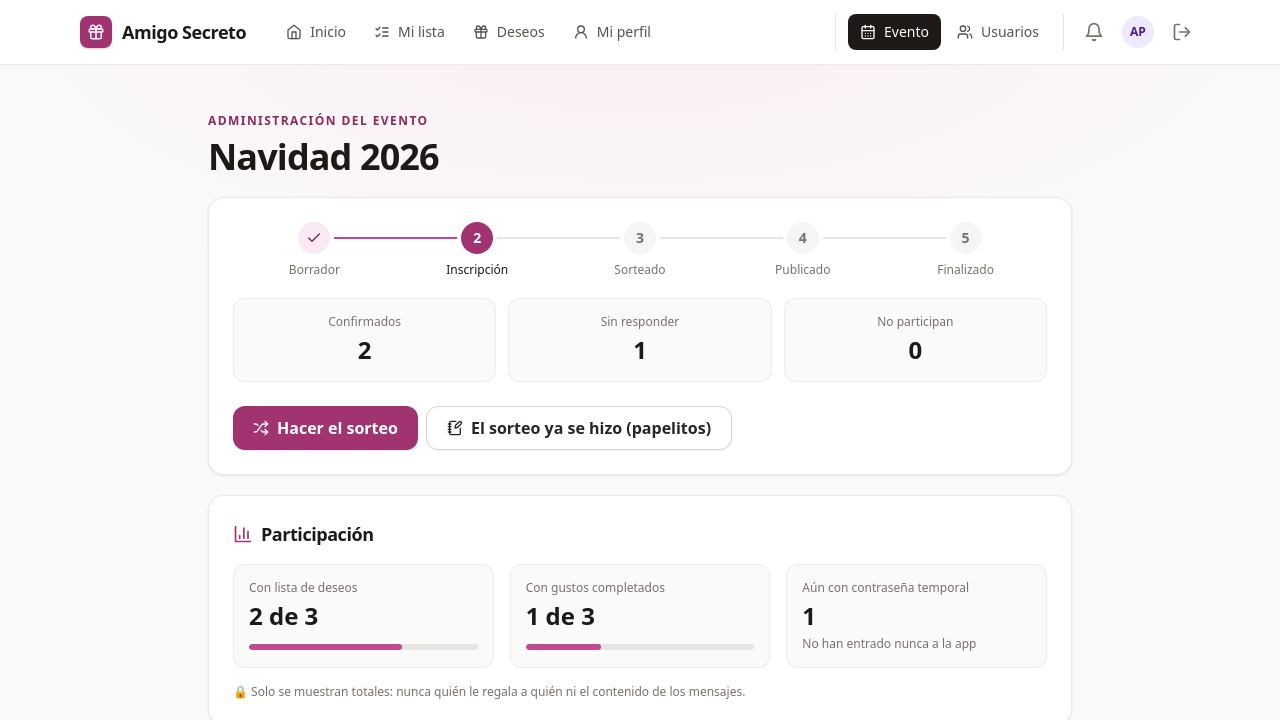
Test: AdminEventPage › en inscripción: estadísticas y aviso de quién queda fuera antes de sortear
Expected: the heading "Participación" is shown, [233, 522, 374, 546]
Expected: the text "2 de 3" is shown, [249, 599, 318, 632]
Click the button "Hacer el sorteo" at (325, 428), box [233, 406, 418, 450]
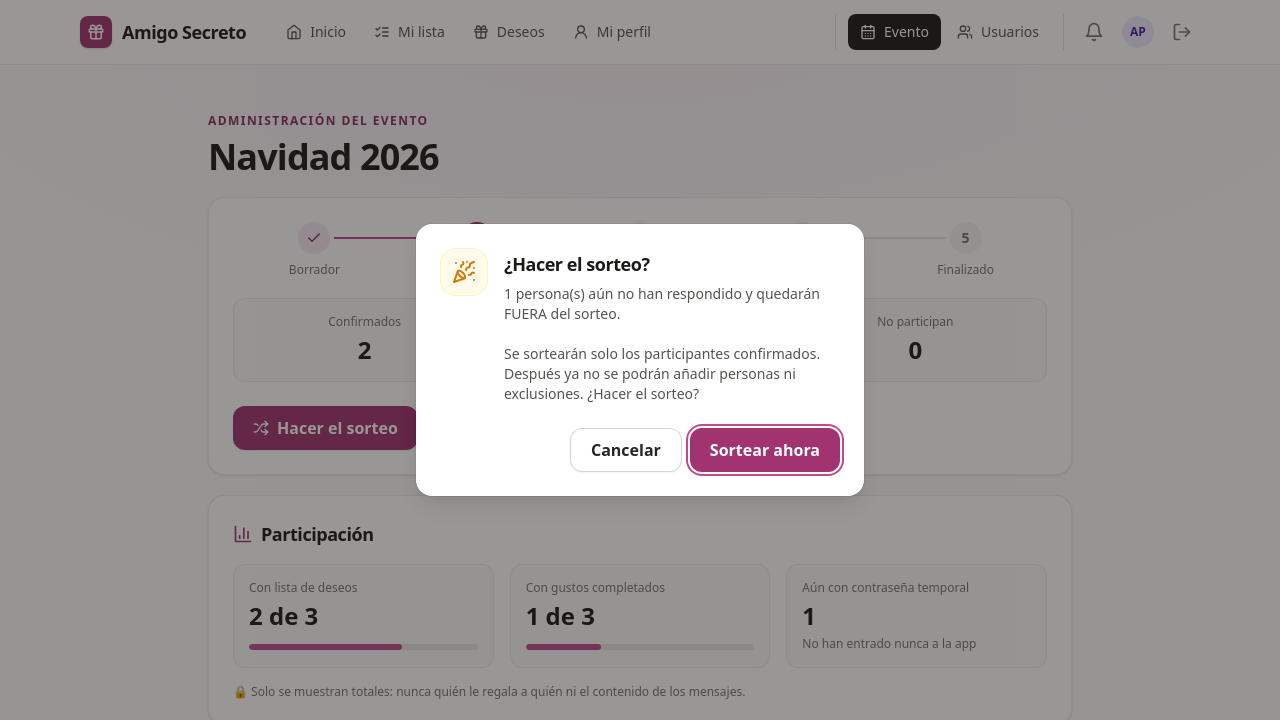
Expected: the dialog "¿Hacer el sorteo?" shows "1 persona(s) aún no han respondido", [504, 284, 820, 403]
Click the button "Sortear ahora" at (765, 450), box [690, 428, 840, 472]
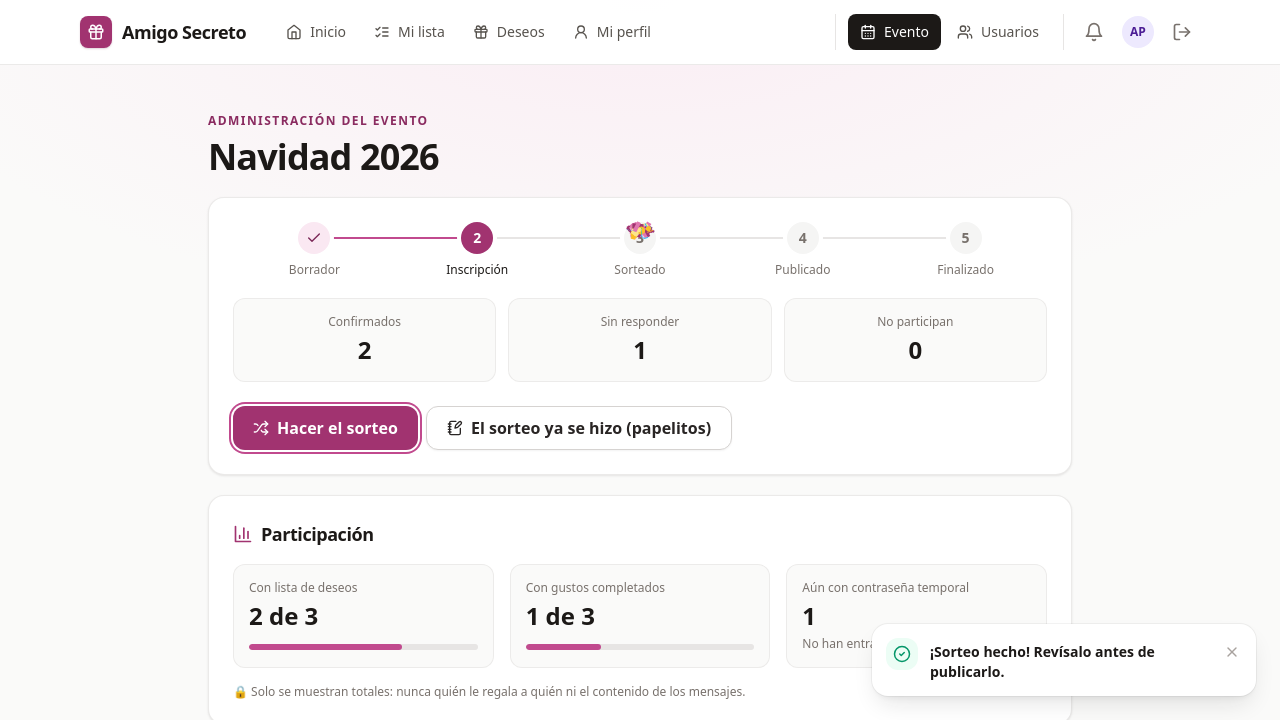
Expected: the dialog is gone
